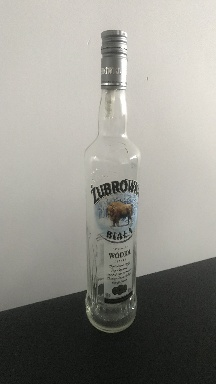butelka: (82, 26, 142, 335)
